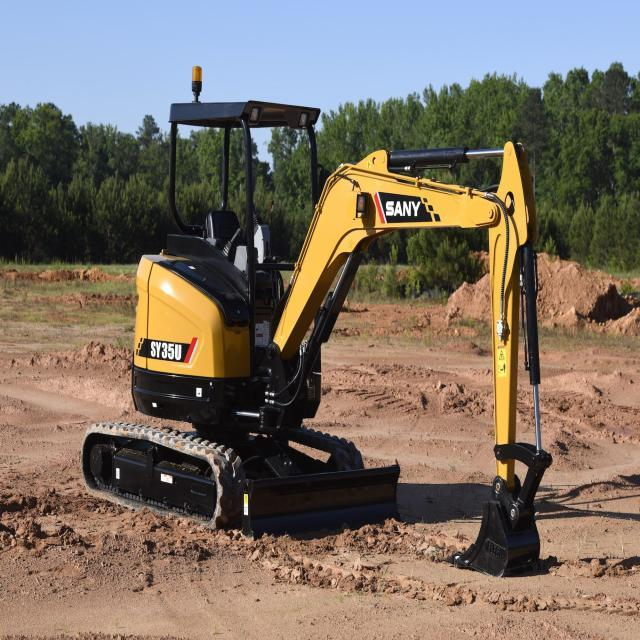C_E: (79, 92, 553, 582)
